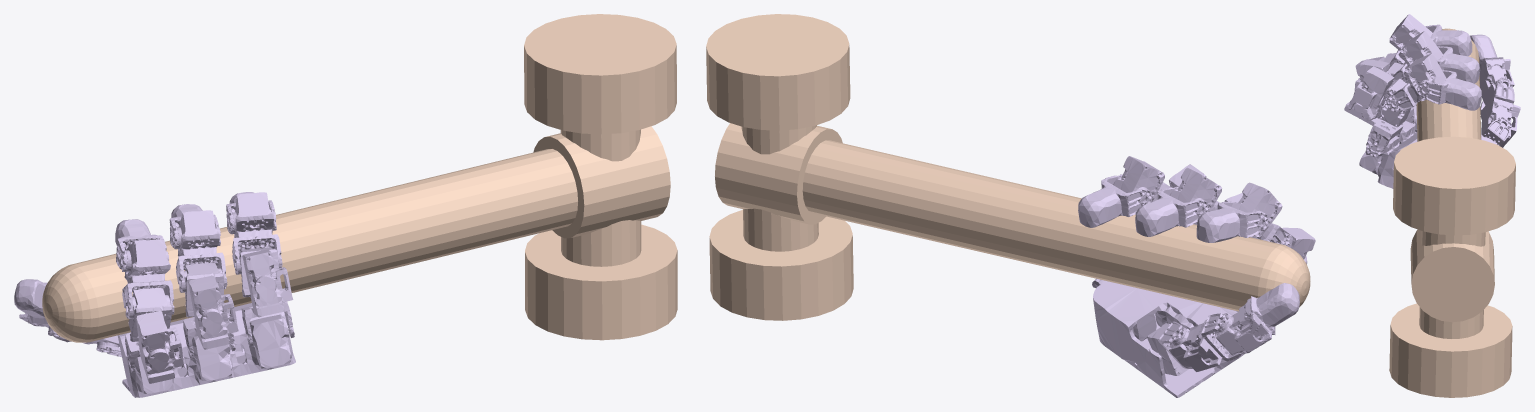
The model's file is f4dc3857c4e95f-closed.glb.
The picture shows the model from 3 angles, left to right: view 1: azimuth 30°, elevation 25°; view 2: azimuth 150°, elevation 25°; view 3: azimuth 270°, elevation 25°; orthographic projection. The views are drawn at different scales.
Parts seen in each view (by area): view 1: world, LEAP_hand; view 2: world, LEAP_hand; view 3: world, LEAP_hand.
Boxes of the visible parts, box(x1,y1,x2,y2) form: world: box(42, 14, 677, 342); LEAP_hand: box(14, 192, 295, 397); world: box(706, 14, 1310, 320); LEAP_hand: box(1078, 156, 1315, 397); world: box(1389, 28, 1515, 397); LEAP_hand: box(1344, 14, 1520, 188).
Bounding box in the file's own units: 0.5481 × 0.2184 × 0.1648.
